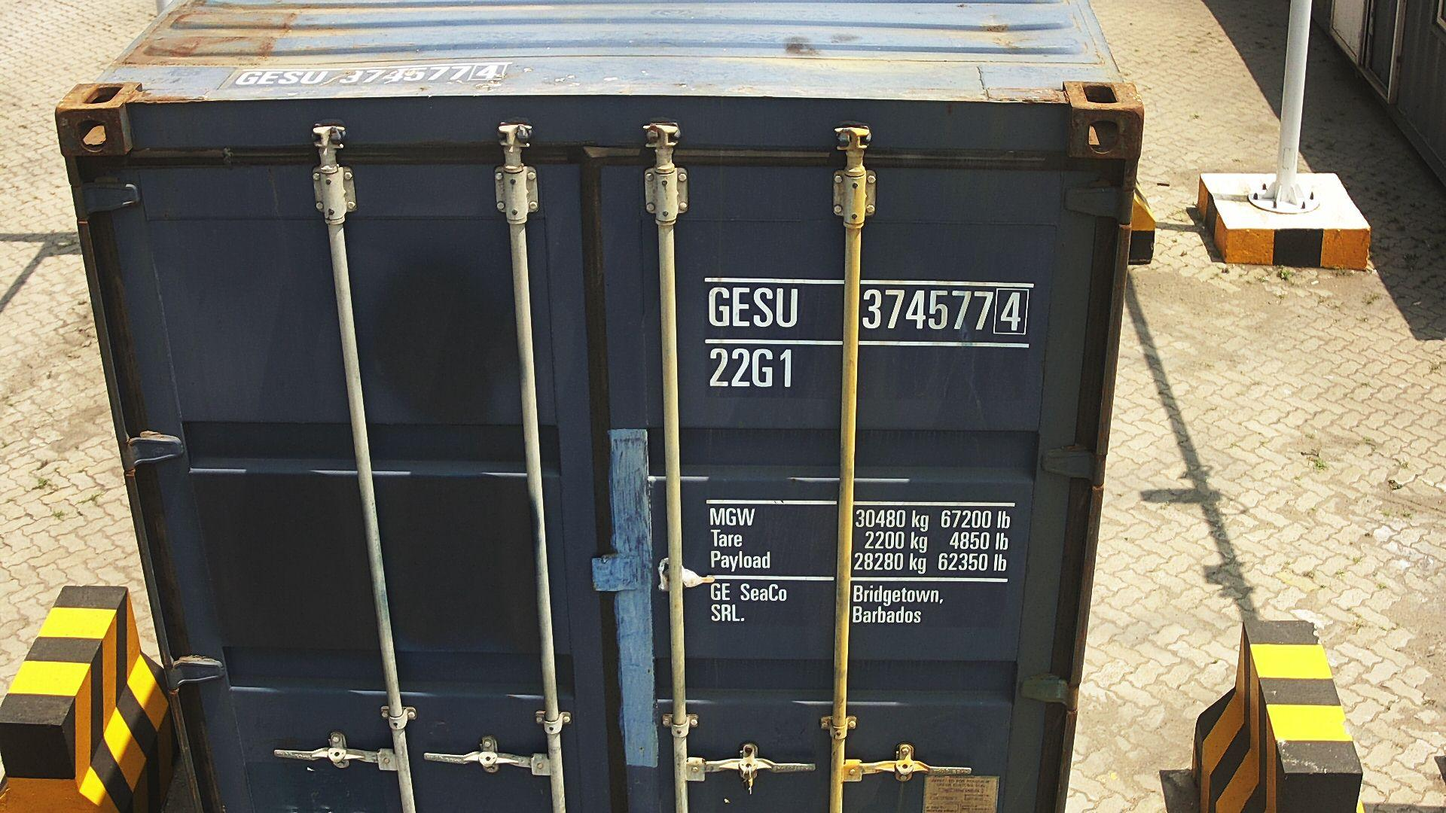container-numbers: (705, 283, 1035, 340), (228, 63, 528, 86), (705, 345, 796, 391)
